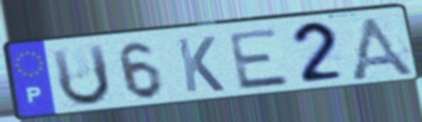2: (287, 19, 353, 90)
6: (116, 39, 167, 102)
A: (346, 13, 420, 80)
E: (226, 26, 294, 93)
K: (173, 34, 228, 95)
U: (49, 42, 114, 110)
